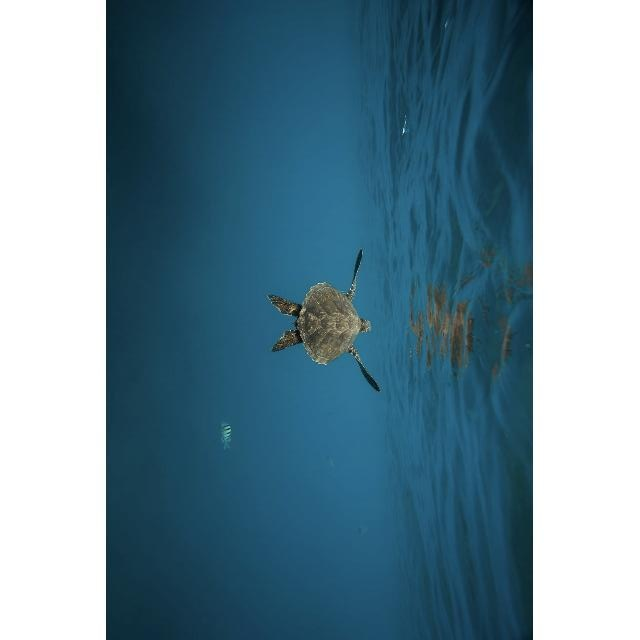turtle: (264, 252, 381, 392)
